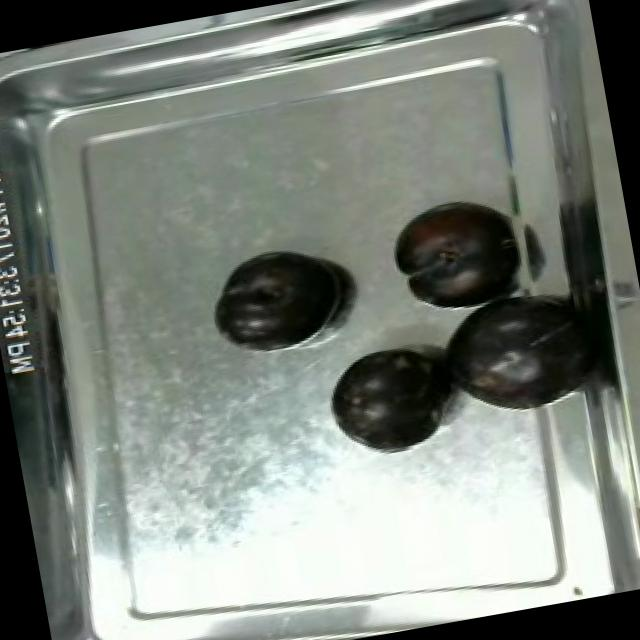Fruit: (426, 282, 604, 428), (382, 189, 530, 316), (201, 236, 355, 356), (319, 337, 459, 459), (618, 485, 640, 589)
